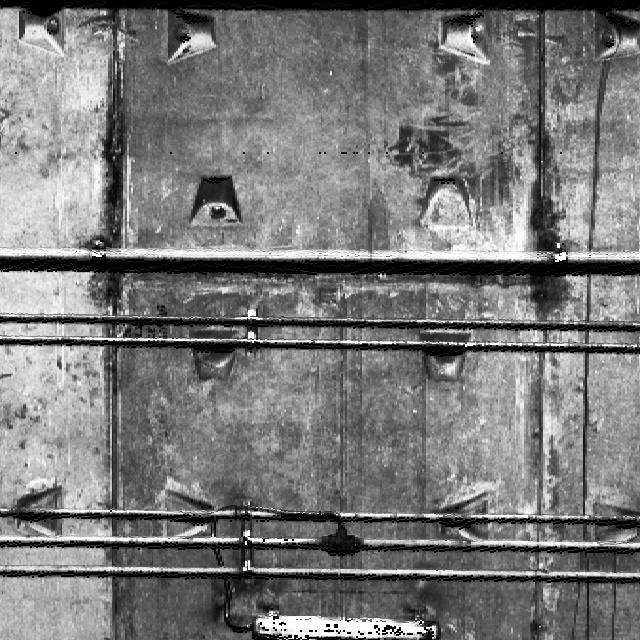leakage: (508, 107, 584, 334), (86, 29, 138, 323)
